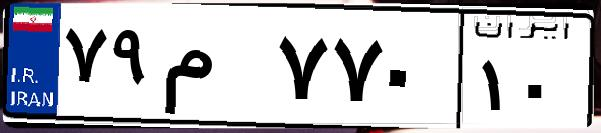0: (385, 28, 445, 110), (525, 38, 570, 115)
1: (475, 38, 525, 113)
7: (270, 28, 330, 110), (330, 28, 385, 110), (57, 26, 110, 100)
9: (110, 28, 158, 98)
م: (158, 20, 270, 120)
